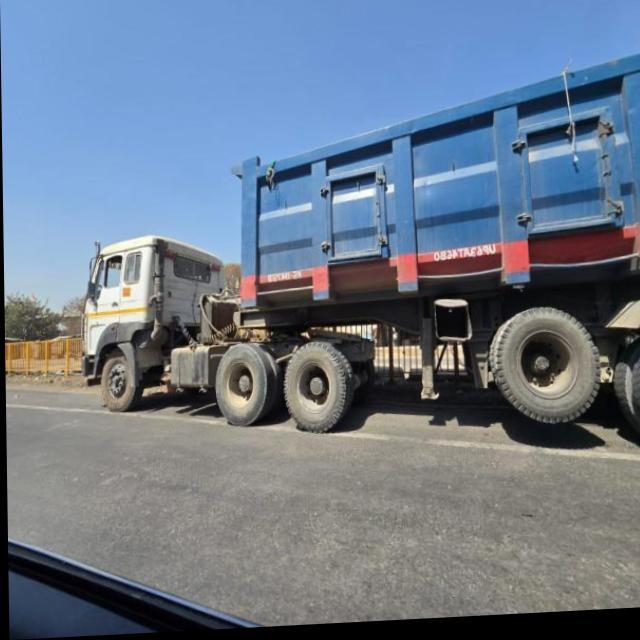uncovered: (148, 42, 640, 450)
